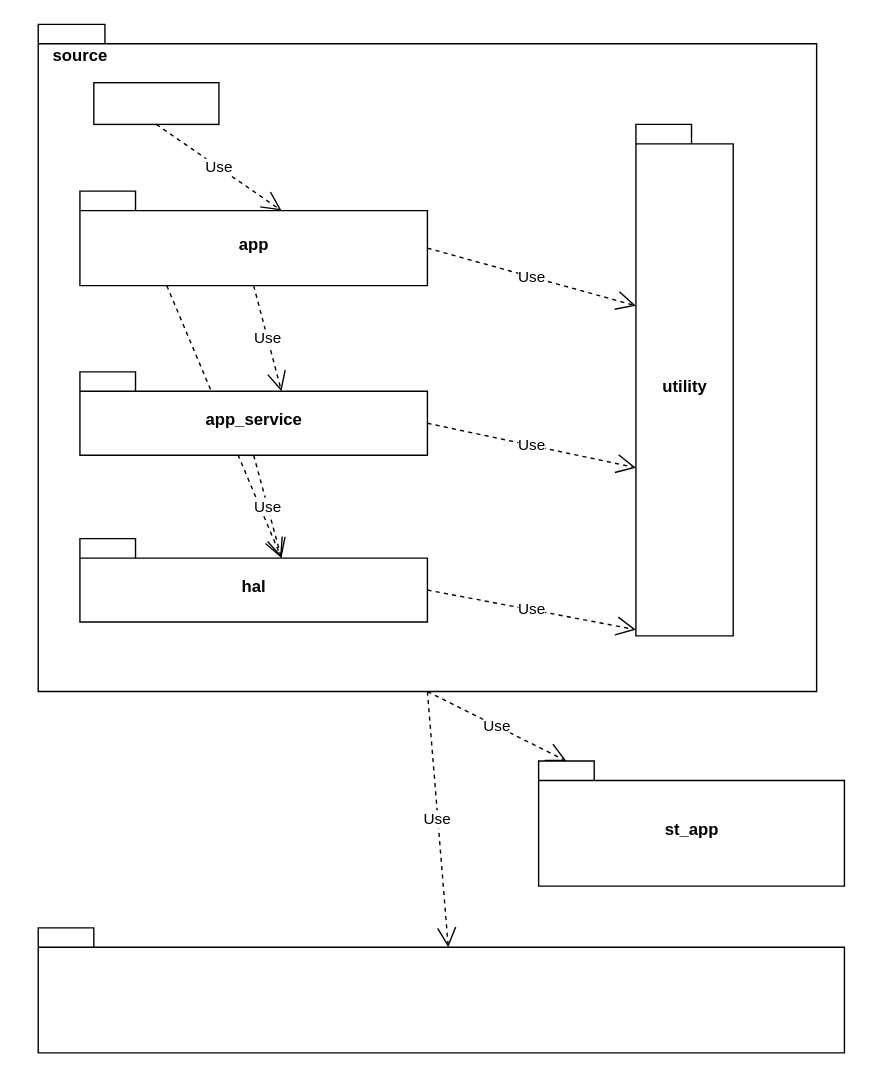
Some shapes in this 869 by 1077 pixel diagram are drawn without their labels. The box of each missing label's shape, as (x1, y1, x2, y2) in pixels:
lib: (37, 926, 844, 1053)
main: (92, 81, 219, 124)
